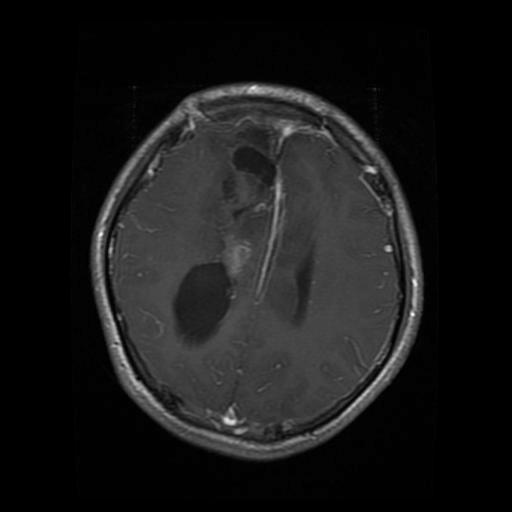Tumour-Glioma: (207, 219, 270, 304)
